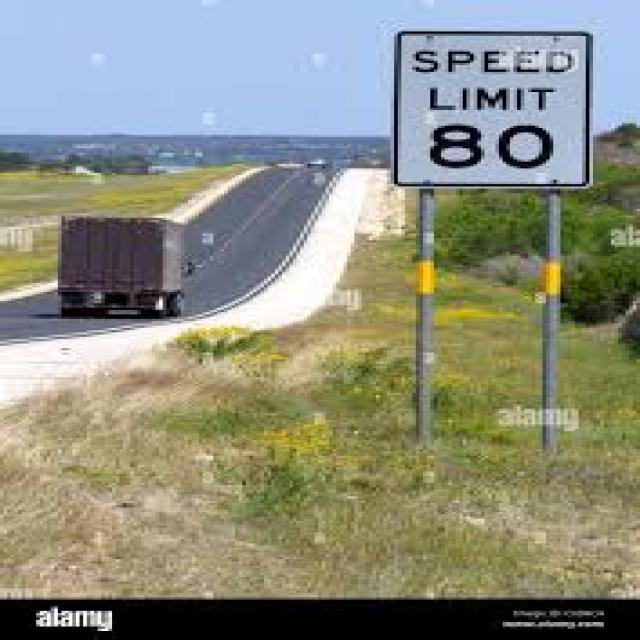speedLimit80: (398, 20, 593, 200)
